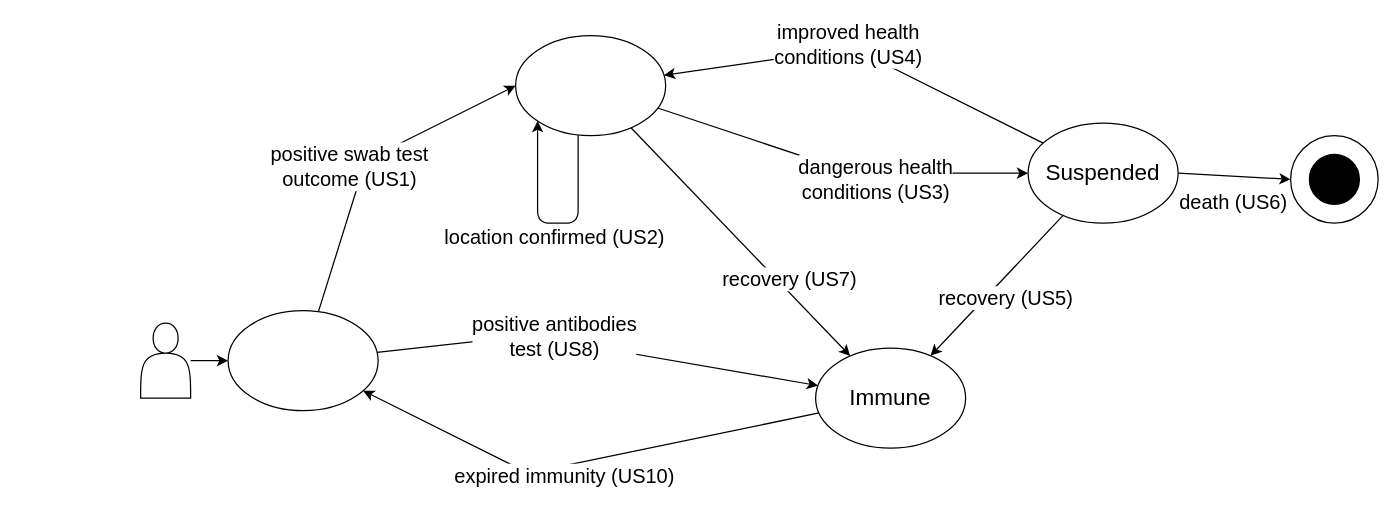
This 1400x510 diagram has some shape labels left out. Here are the shapes that lost their labels. From the top down, the box of each, then its label:
(514, 34, 666, 136): Quarantined
(227, 309, 378, 411): Unknown
